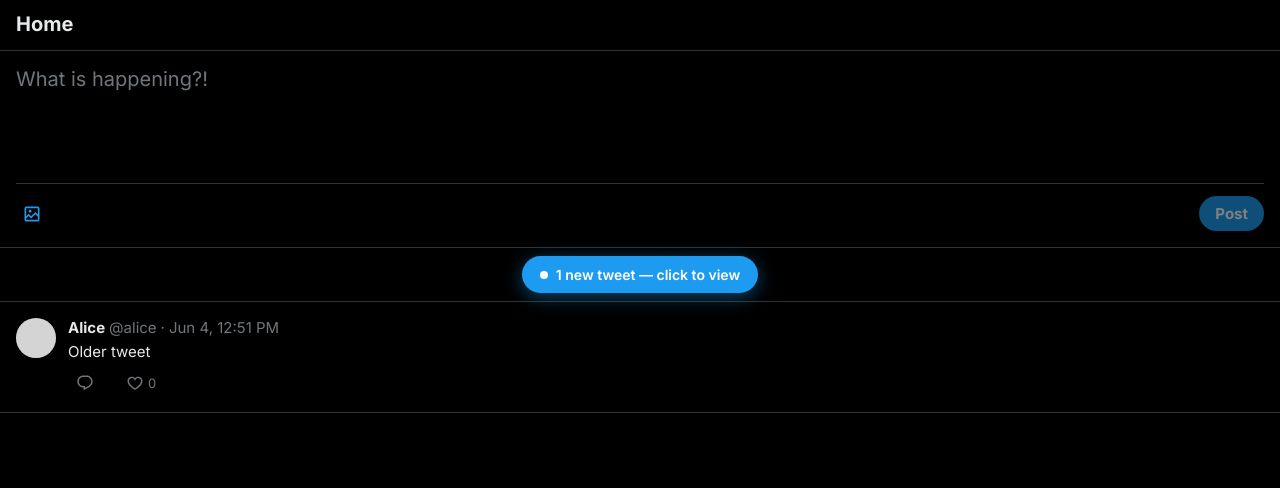
Real-time — new tweets banner › shows the banner when a tweet:new event arrives and hides it after click
Expected: the text "Older tweet" is shown, [68,342,150,361]
Click the button "1 new tweet — click to view".
click(640, 274)  # box [522,256,758,293]
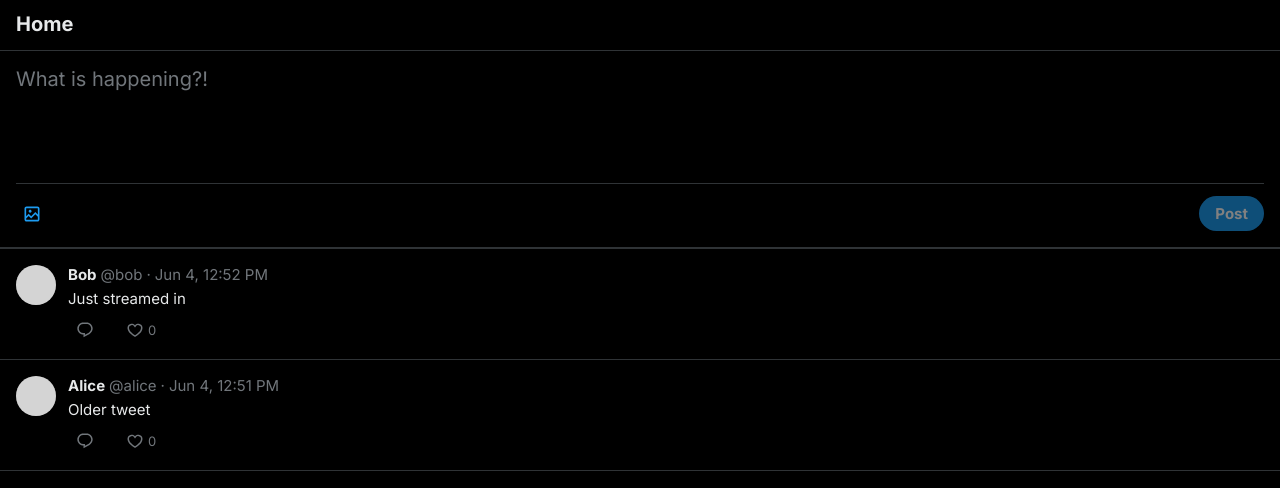
Now the button "new tweet" is gone
Now the text "Just streamed in" is shown, box [68,289,186,308]
